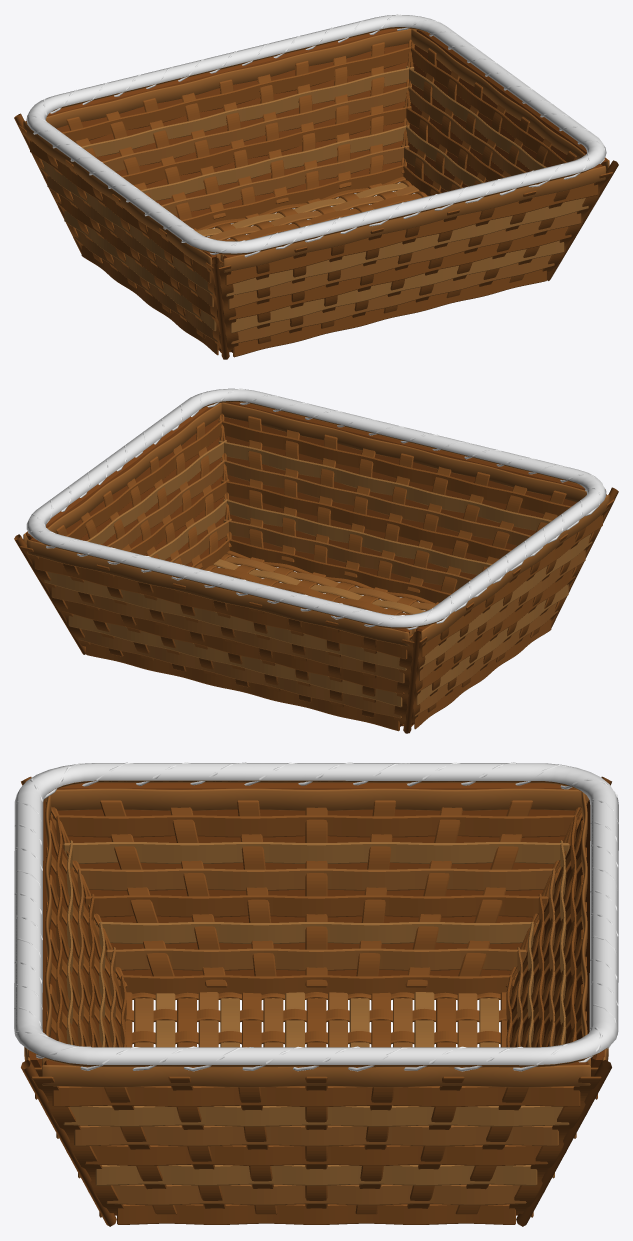
The model's file is LowWideWovenBasket_Roblox.fbx.
3 renders of one model, top to bottom at view 1: azimuth 30°, elevation 25°; view 2: azimuth 150°, elevation 25°; view 3: azimuth 270°, elevation 25°, orthographic. The views are drawn at different scales.
Parts seen in each view (by area): view 1: LowWideWovenBasket_Export; view 2: LowWideWovenBasket_Export; view 3: LowWideWovenBasket_Export.
Part boxes in pixels (bbox=[...]): LowWideWovenBasket_Export: bbox=[14, 14, 618, 359]; LowWideWovenBasket_Export: bbox=[14, 388, 618, 733]; LowWideWovenBasket_Export: bbox=[14, 762, 618, 1226].
Bounding box in the file's own units: 2.61 × 0.8381 × 2.25.
